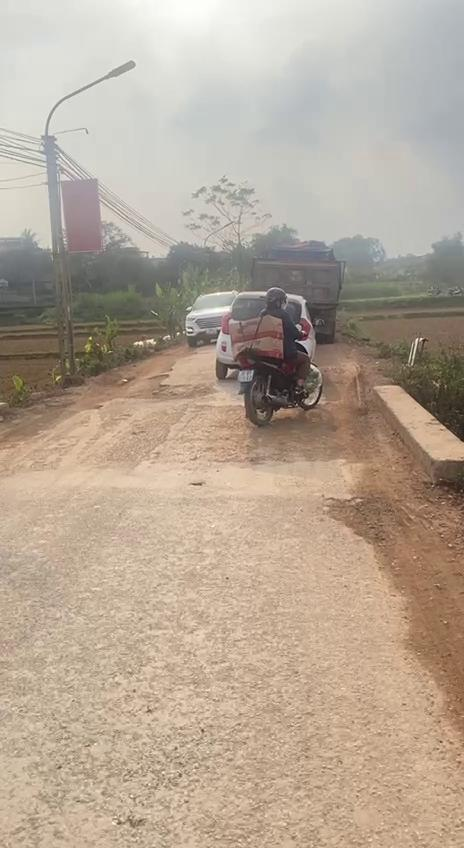pothole: (322, 493, 400, 541), (104, 374, 220, 406)
